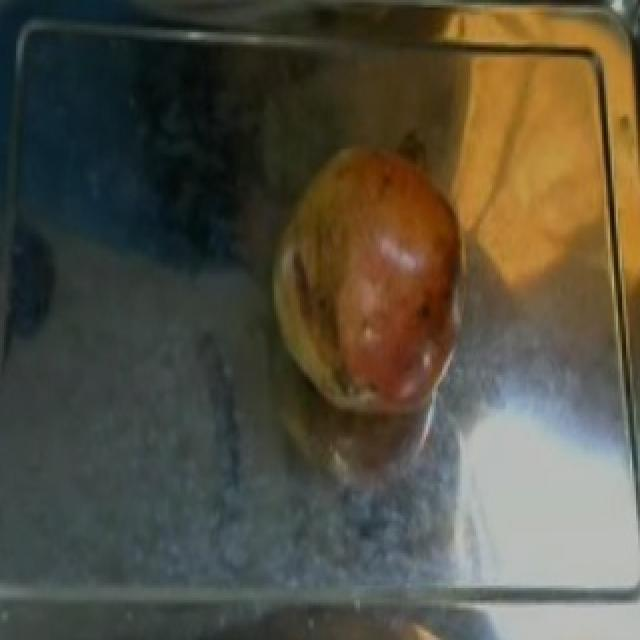fruit: (258, 159, 474, 439)
